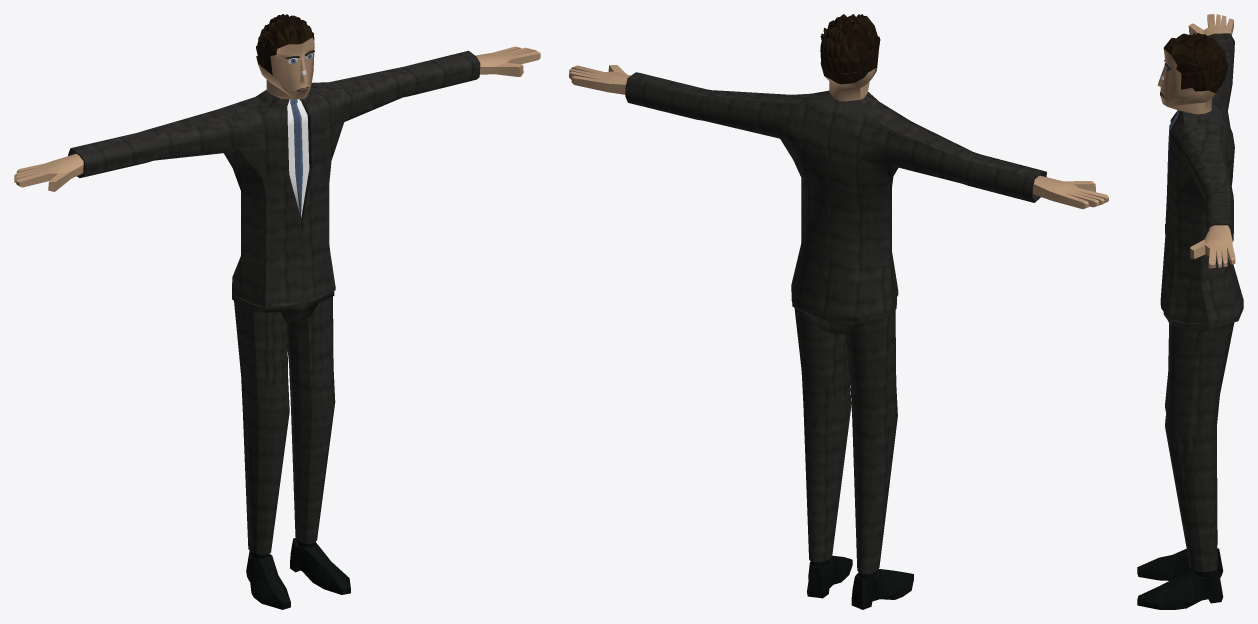
Rendered from ryder_v001.fbx.
The picture shows the model from 3 angles, left to right: view 1: azimuth 30°, elevation 25°; view 2: azimuth 150°, elevation 25°; view 3: azimuth 270°, elevation 25°; orthographic projection. The views are drawn at different scales.
Parts seen in each view (by area): view 1: Ryder, HeadFace, Hair001; view 2: Ryder, Hair001, HeadFace; view 3: Ryder, Hair001, HeadFace.
Part boxes in pixels (x1=…): Ryder: x1=14, y1=46, x2=540, y2=609; HeadFace: x1=258, y1=37, x2=314, y2=99; Hair001: x1=256, y1=14, x2=314, y2=75; Ryder: x1=569, y1=65, x2=1108, y2=609; Hair001: x1=820, y1=14, x2=880, y2=84; HeadFace: x1=825, y1=47, x2=879, y2=101; Ryder: x1=1137, y1=14, x2=1243, y2=609; Hair001: x1=1164, y1=33, x2=1227, y2=93; HeadFace: x1=1157, y1=48, x2=1215, y2=114.
Size of the model in its own units: 187 by 193 by 33.58.
12 materials, 10 textured.
